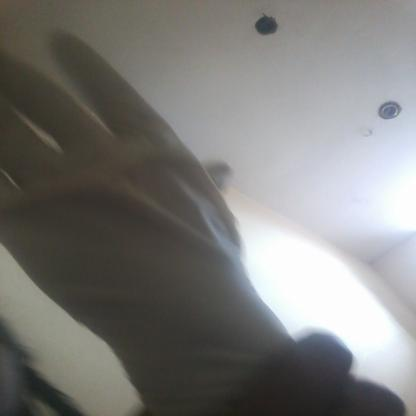gloved_hand: (0, 23, 391, 413)
